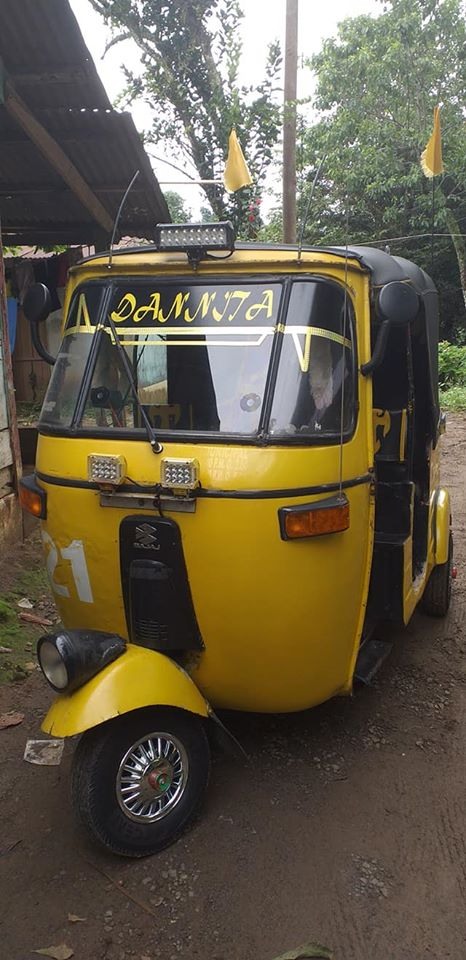mototaxi: (18, 162, 466, 860)
